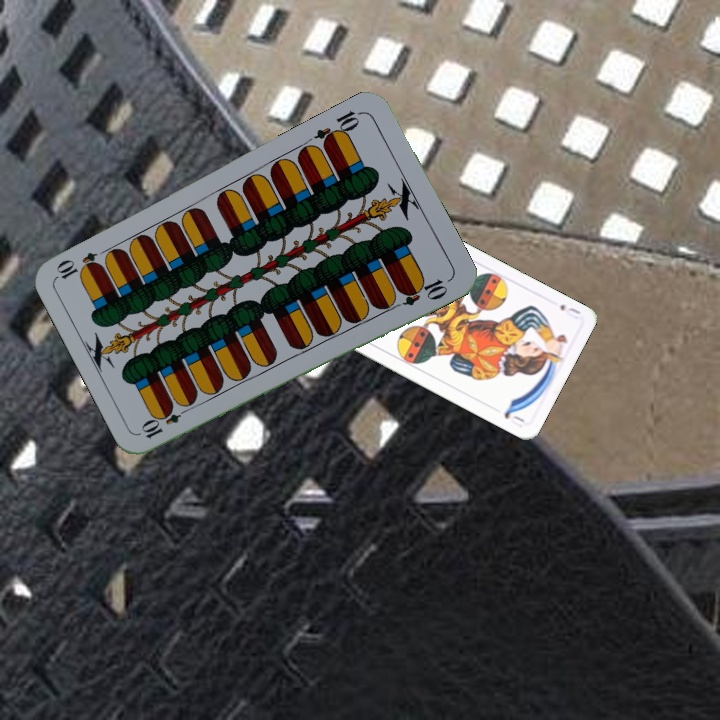E10: (311, 106, 365, 150), (138, 401, 193, 442)
SU: (556, 300, 583, 322)
